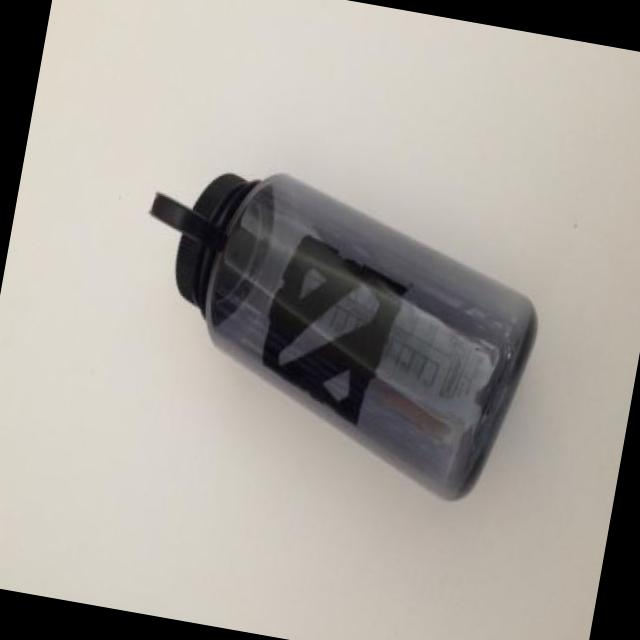Recycle: (106, 146, 558, 522)
